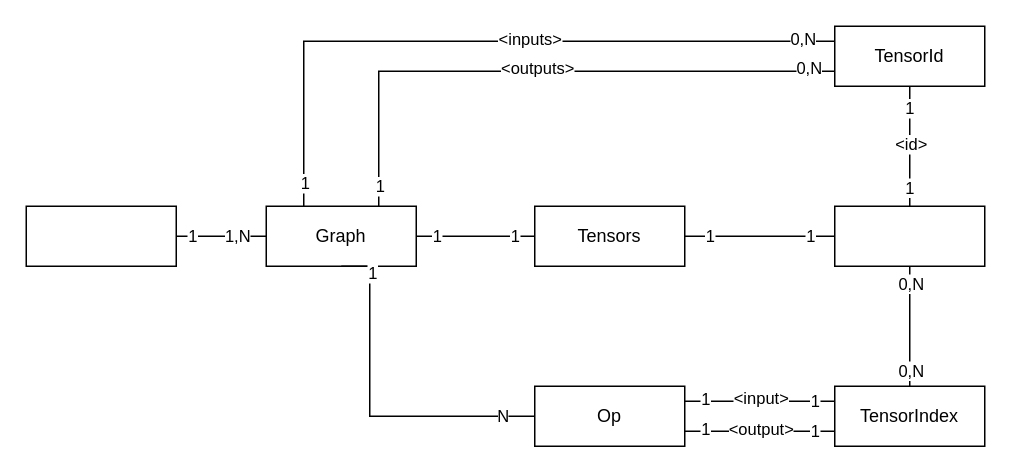
The diagram is 1011 pixels wide and 473 high, and some of its shapes have lost their labels. Each missing label, with the centre of its shape:
"Ir" goes at [100,235].
"Tensor" goes at [909,235].
